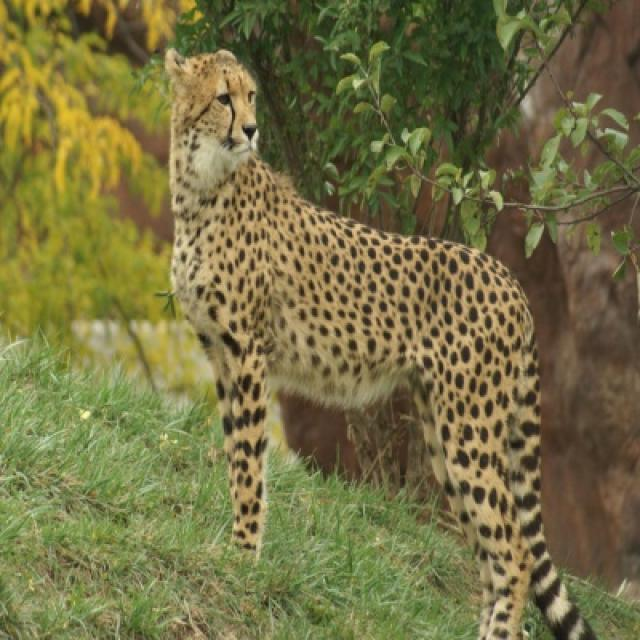Cheetah: (166, 48, 595, 638)
